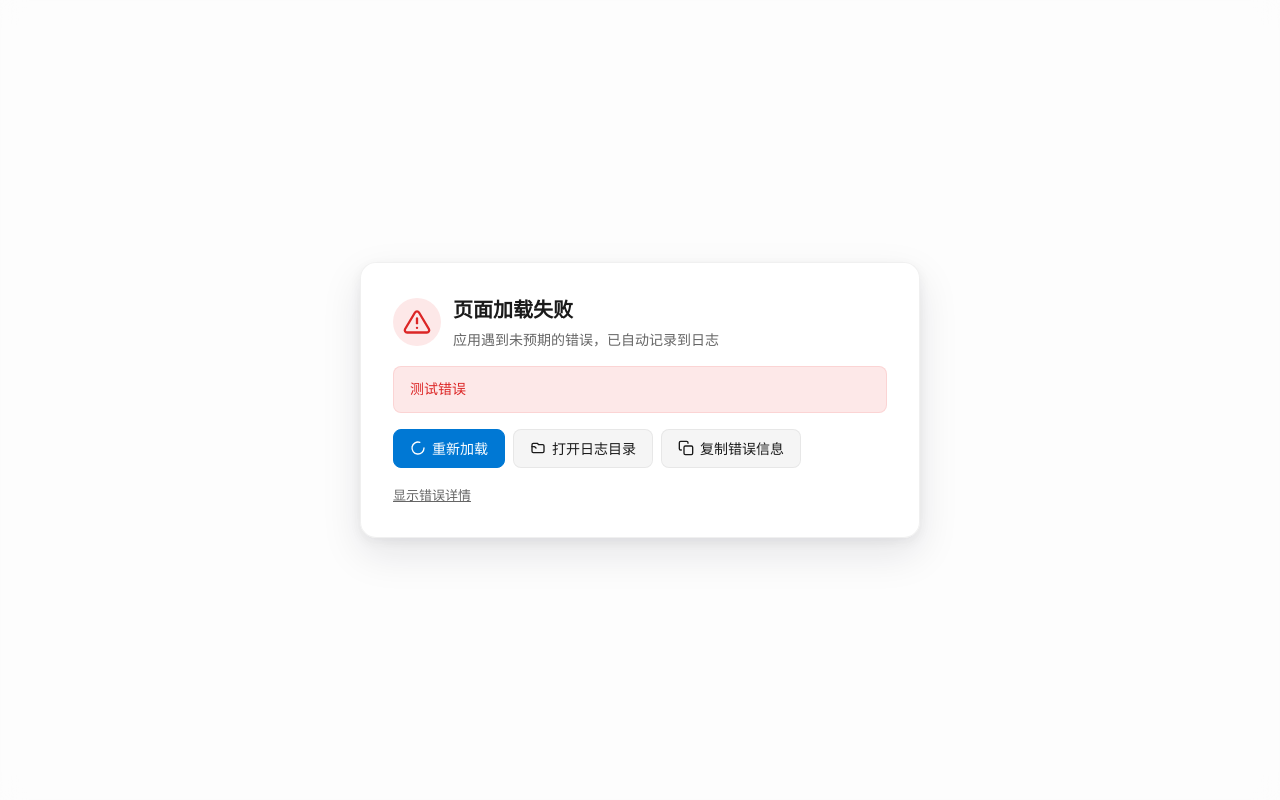
Test: ErrorFallback › 点击"隐藏错误详情"折叠详情区域
Step 1. Click the button "显示错误详情" → (432, 496), box [393,486,471,505]
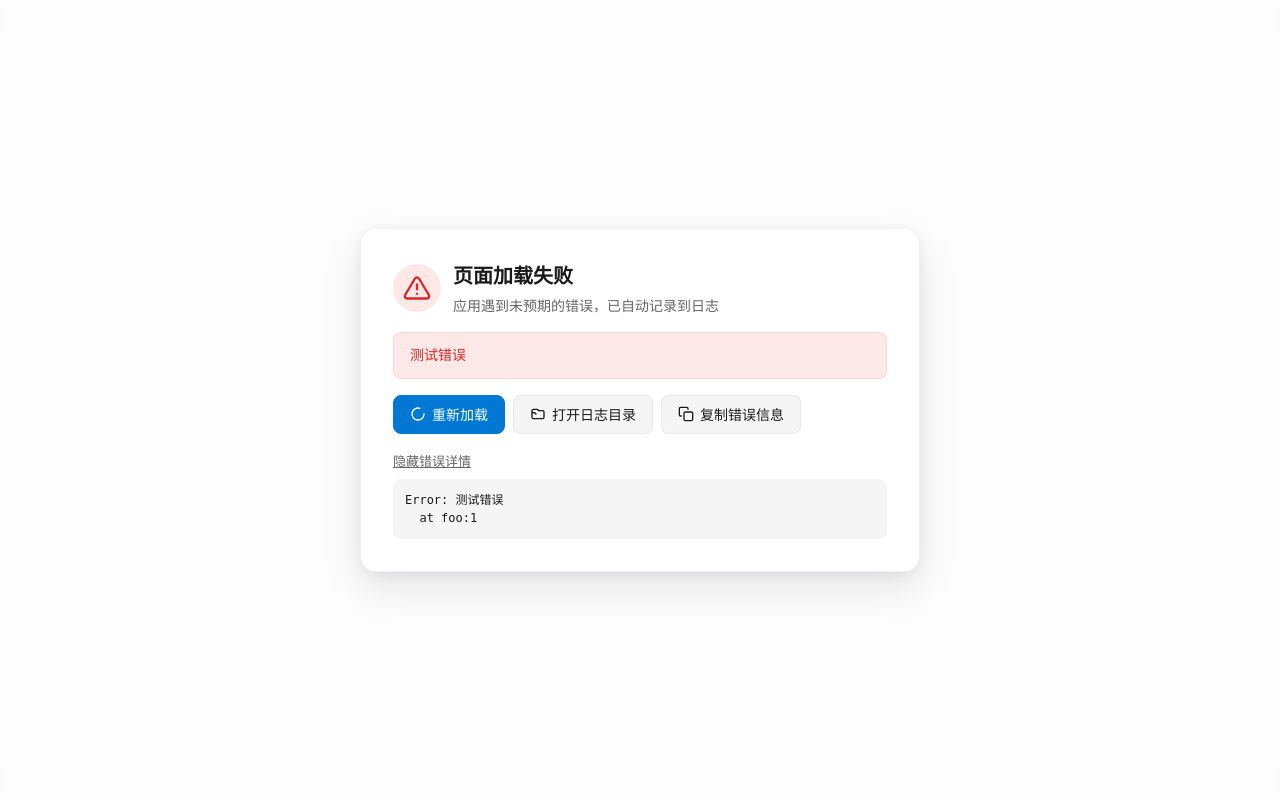
Step 2. Click the button "隐藏错误详情" → (432, 462), box [393,452,471,471]
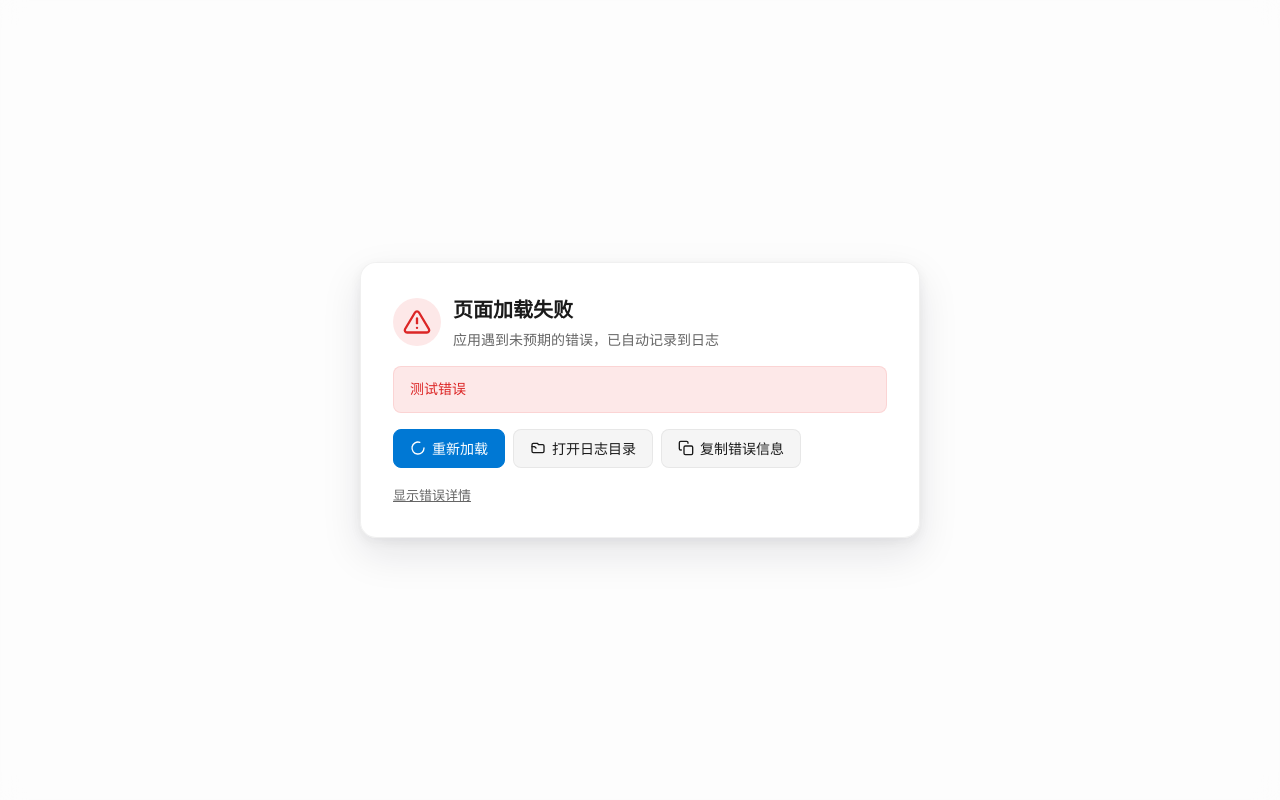
Now the button "隐藏错误详情" is gone
